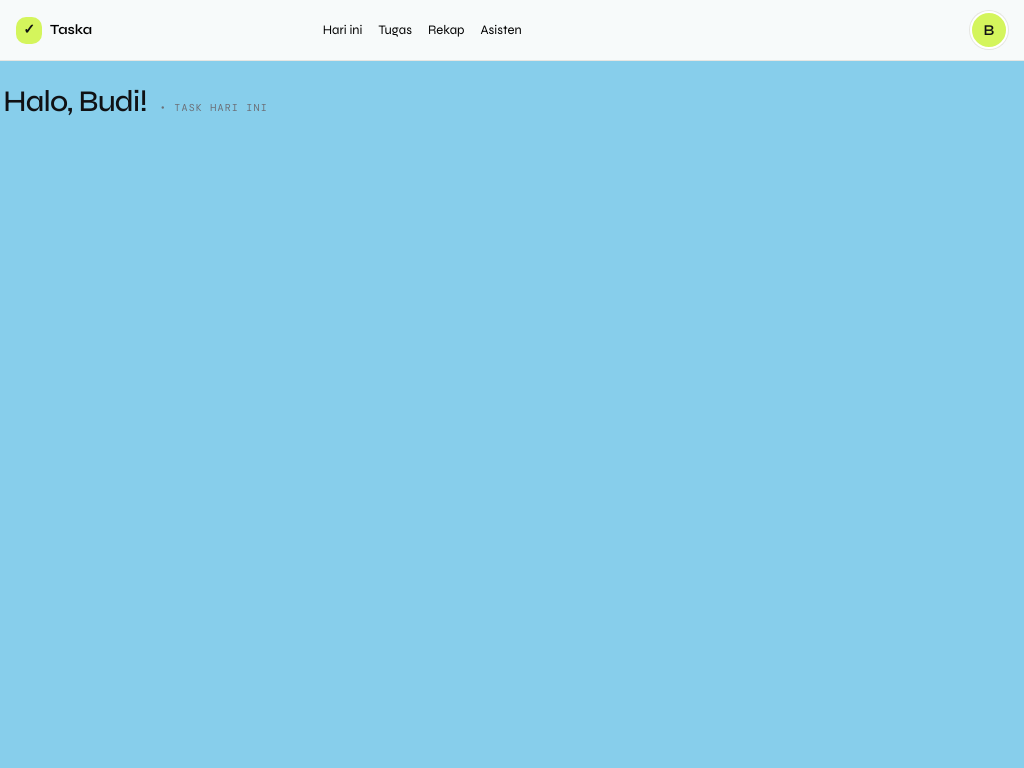
Test: Dashboard › Batal menutup dialog tanpa menyimpan nama
What coordinates should you click on to do the following:
click the button named "menu profil"
I would click on:
 (989, 30)
Its box is left=970, top=11, right=1008, bottom=49.
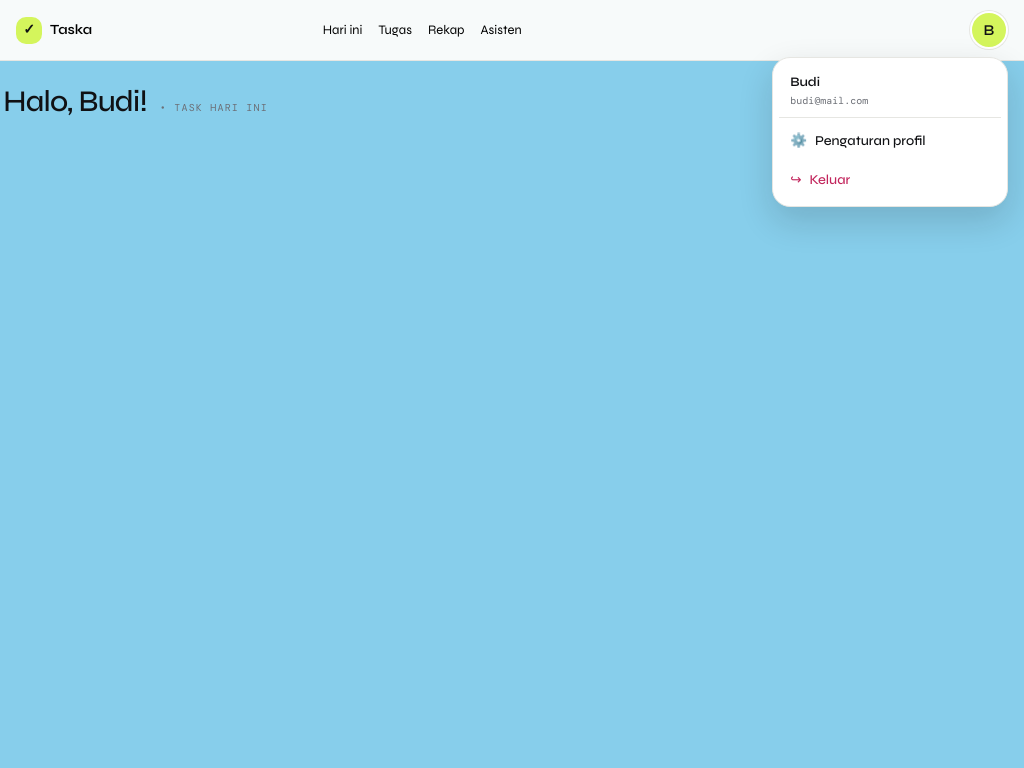
What coordinates should you click on to do the following:
click the menu item "⚙️ Pengaturan profil"
I would click on:
 (890, 142)
Its box is left=779, top=122, right=1001, bottom=161.
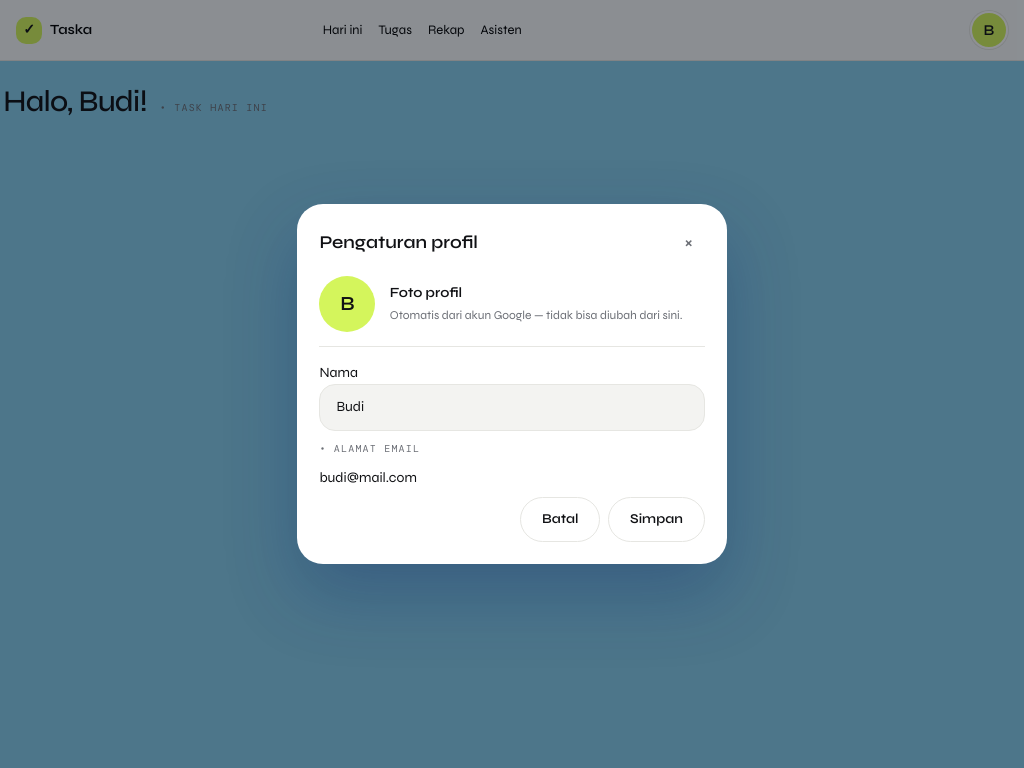
What coordinates should you click on to do the following:
click the button "Batal"
I would click on:
 (560, 520)
Its box is left=520, top=497, right=600, bottom=542.
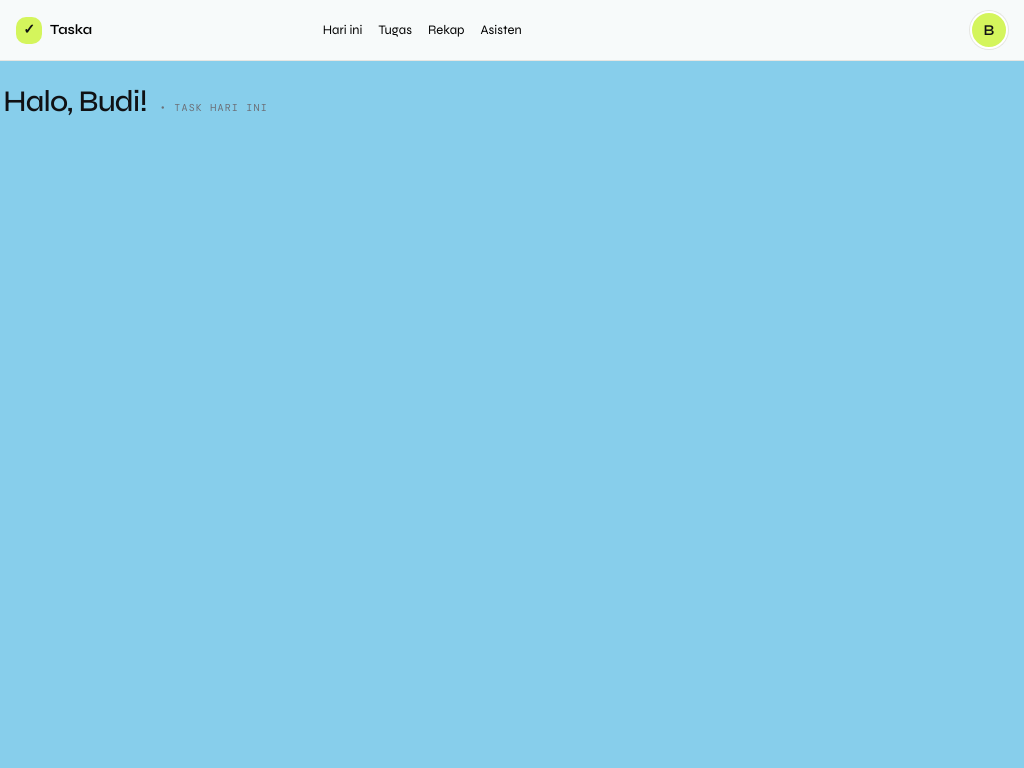
Result: the dialog is gone
